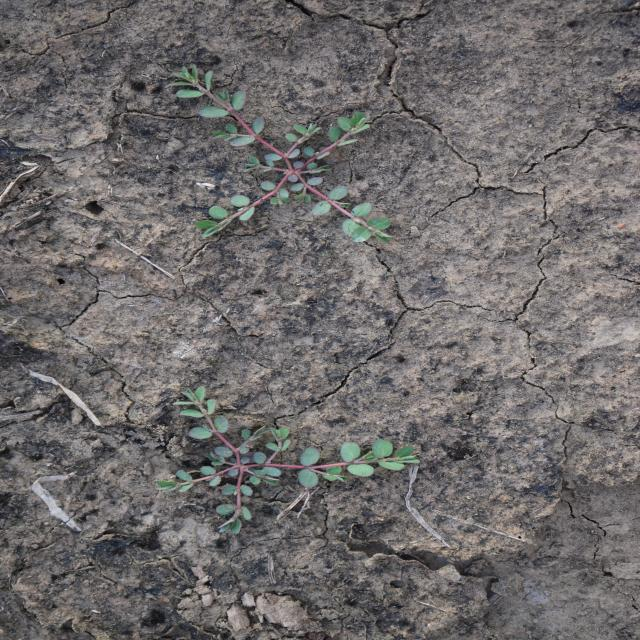SpottedSpurge: (160, 62, 399, 247), (152, 384, 426, 536)
